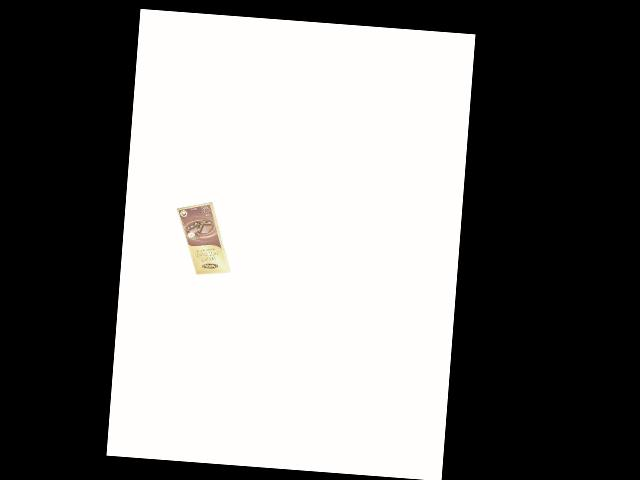chocolate: (171, 192, 238, 277)
